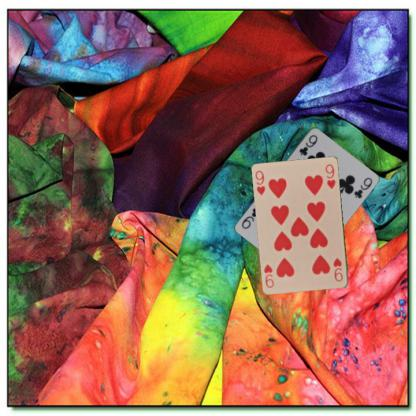9c: (296, 132, 319, 156)
9h: (253, 168, 267, 197), (331, 256, 344, 283)
